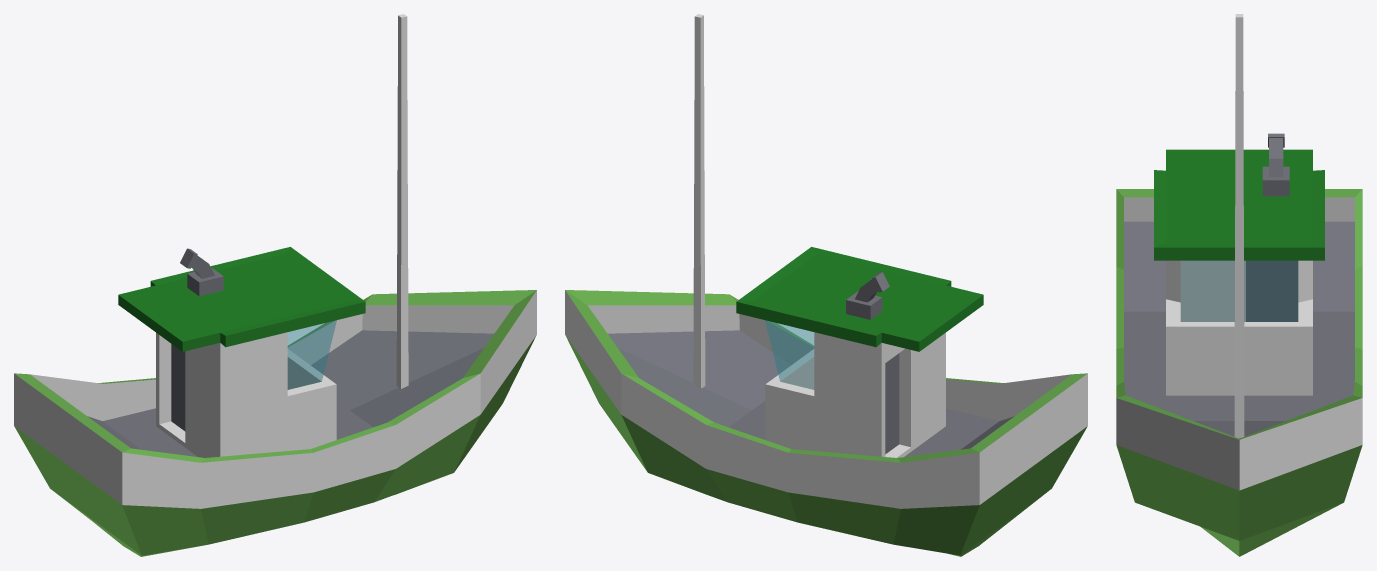
The model's file is boat2.fbx.
3 views of the same model, side by side, from view 1: azimuth 30°, elevation 25°; view 2: azimuth 150°, elevation 25°; view 3: azimuth 270°, elevation 25° (orthographic). The views are drawn at different scales.
Parts seen in each view (by area): view 1: bateau variation.2; view 2: bateau variation.2; view 3: bateau variation.2.
Part boxes in pixels (<box>): bateau variation.2: <box>14,14,536,556</box>; bateau variation.2: <box>565,14,1087,556</box>; bateau variation.2: <box>1116,14,1362,556</box>.
Bounding box in the file's own units: 211 × 200 × 84.47.
